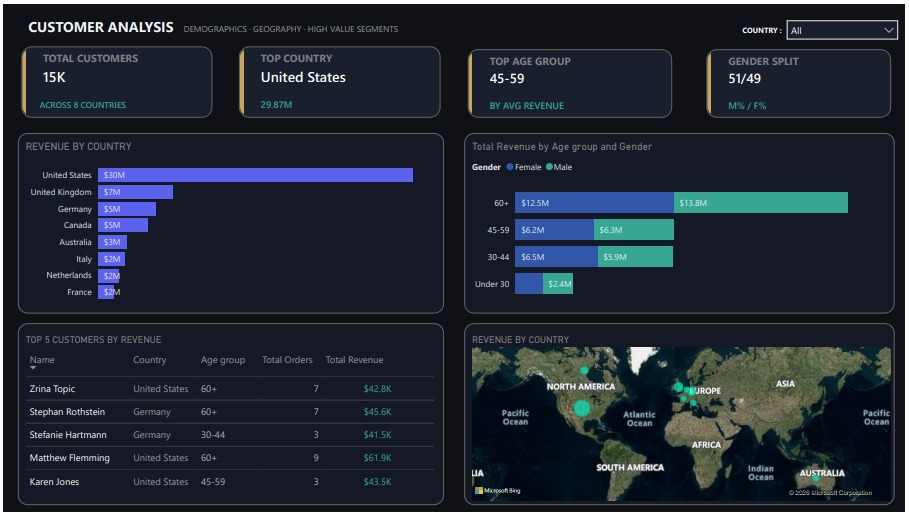

The page's visual inventory and layout, read from the dashboard file:
{"tool":"powerbi","page":{"name":"Customer analysis","canvas":[1280,720],"ordinal":2},"visuals":[{"type":"clusteredBarChart","title":"REVENUE BY COUNTRY","fields":{"Category":["customers.Country"],"Y":["_Measures.Total Revenue"]},"box":[20.2,182.1,604.8,256],"z":0},{"type":"barChart","fields":{"Category":["customers.Age group"],"Y":["_Measures.Total Revenue"],"Series":["customers.Gender"]},"box":[653.6,182.1,611.9,256],"z":1000},{"type":"tableEx","title":"TOP 5 CUSTOMERS BY REVENUE","fields":{"Values":["customers.Name","customers.Country","customers.Age group","_Measures.Total Orders","_Measures.Total Revenue"]},"box":[20.2,452.4,604.8,257.1],"z":2000},{"type":"slicer","fields":{"Values":["customers.Country"]},"box":[1102.4,11.9,177.4,41.7],"z":3000},{"type":"cardVisual","fields":{"Data":["_Measures.Total customers"]},"box":[20.2,53.6,281,111.4],"z":4000},{"type":"cardVisual","fields":{"Data":["_Measures.TOP COUNTRY"]},"box":[328.6,53.6,296.4,111.9],"z":5000},{"type":"cardVisual","fields":{"Data":["_Measures.top age group"]},"box":[653.6,58.3,300,107.1],"z":6000},{"type":"cardVisual","fields":{"Data":["_Measures.gender split"]},"box":[992.9,58.3,272.6,107.1],"z":7000},{"type":"map","title":"REVENUE BY COUNTRY","fields":{"Category":["customers.Country"],"Size":["_Measures.Total Revenue"]},"box":[653.6,452.4,611.9,257.1],"z":8000},{"type":"textbox","box":[1043.8,21,91.7,29.8],"z":9000},{"type":"textbox","box":[29.8,11.9,558.3,46.4],"z":10000}]}

Visuals, with their boxes in screenshot pixels (x1, y1, x2, y2), scaled from the page's 1280x720 canvas onto the 909x514 screenshot:
"REVENUE BY COUNTRY" clusteredBarChart: 14/130/444/313
barChart - customers.Age group x _Measures.Total Revenue: 464/130/899/313
"TOP 5 CUSTOMERS BY REVENUE" tableEx: 14/323/444/507
slicer - customers.Country: 783/8/908/38
cardVisual - _Measures.Total customers: 14/38/214/118
cardVisual - _Measures.TOP COUNTRY: 233/38/444/118
cardVisual - _Measures.top age group: 464/42/677/118
cardVisual - _Measures.gender split: 705/42/899/118
"REVENUE BY COUNTRY" map: 464/323/899/507
textbox: 741/15/806/36
textbox: 21/8/418/42
